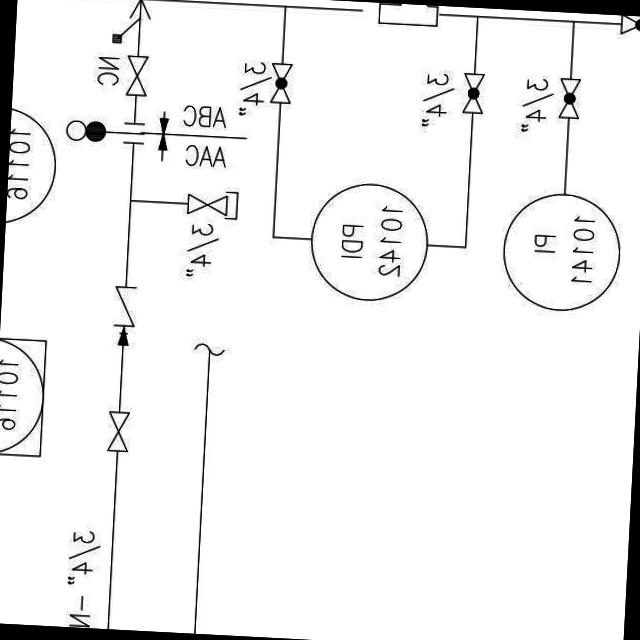BV2: (263, 58, 299, 112), (553, 71, 584, 124), (456, 68, 488, 118)
EC: (154, 183, 240, 226)
GV: (122, 46, 148, 102), (104, 408, 132, 456), (182, 192, 232, 218)
